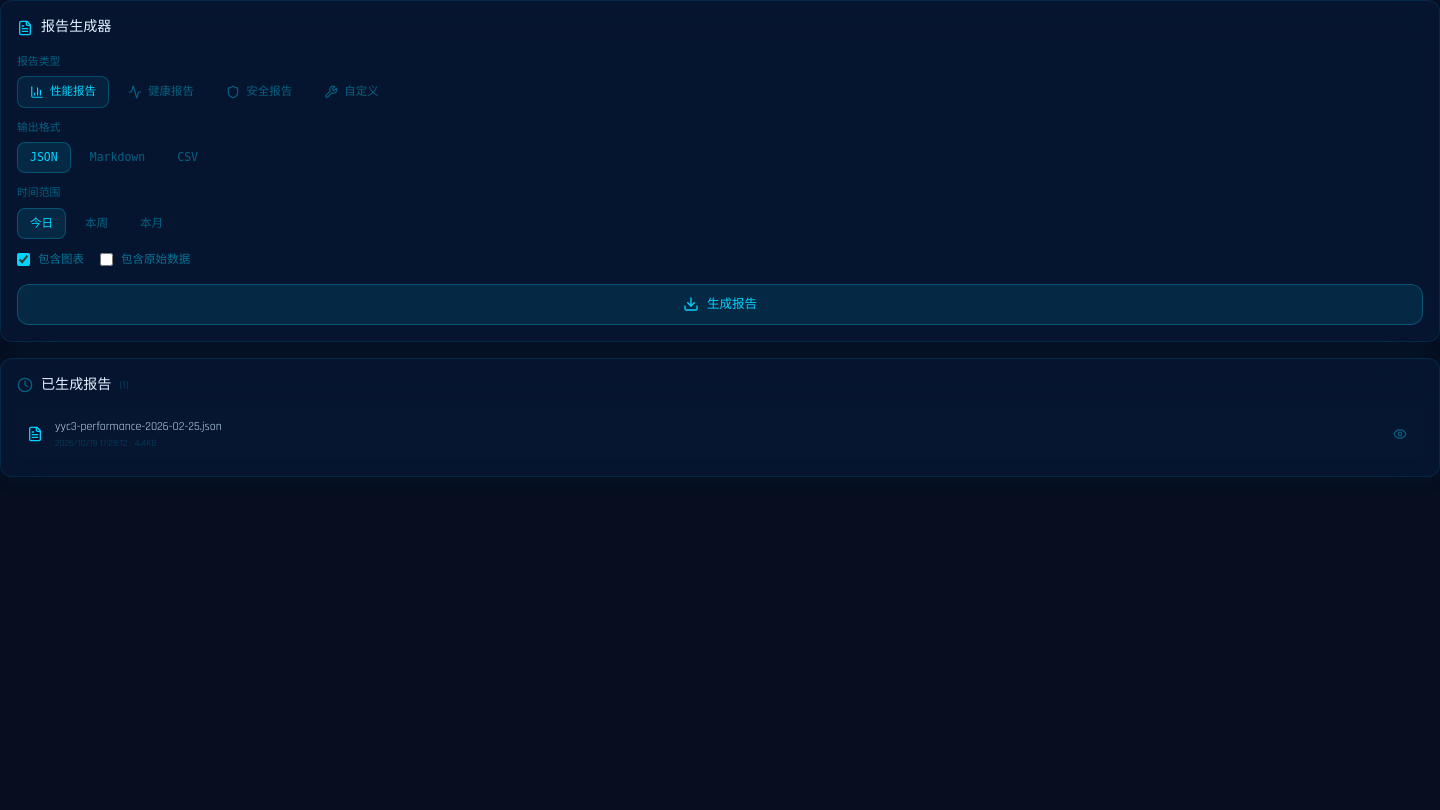
Scenario: ReportGenerator › 已生成报告 › 点击预览按钮应显示预览内容
Step 1. Click the button with test id "preview-rpt-1" → {"x": 1400, "y": 434}, box [1387, 421, 1413, 447]
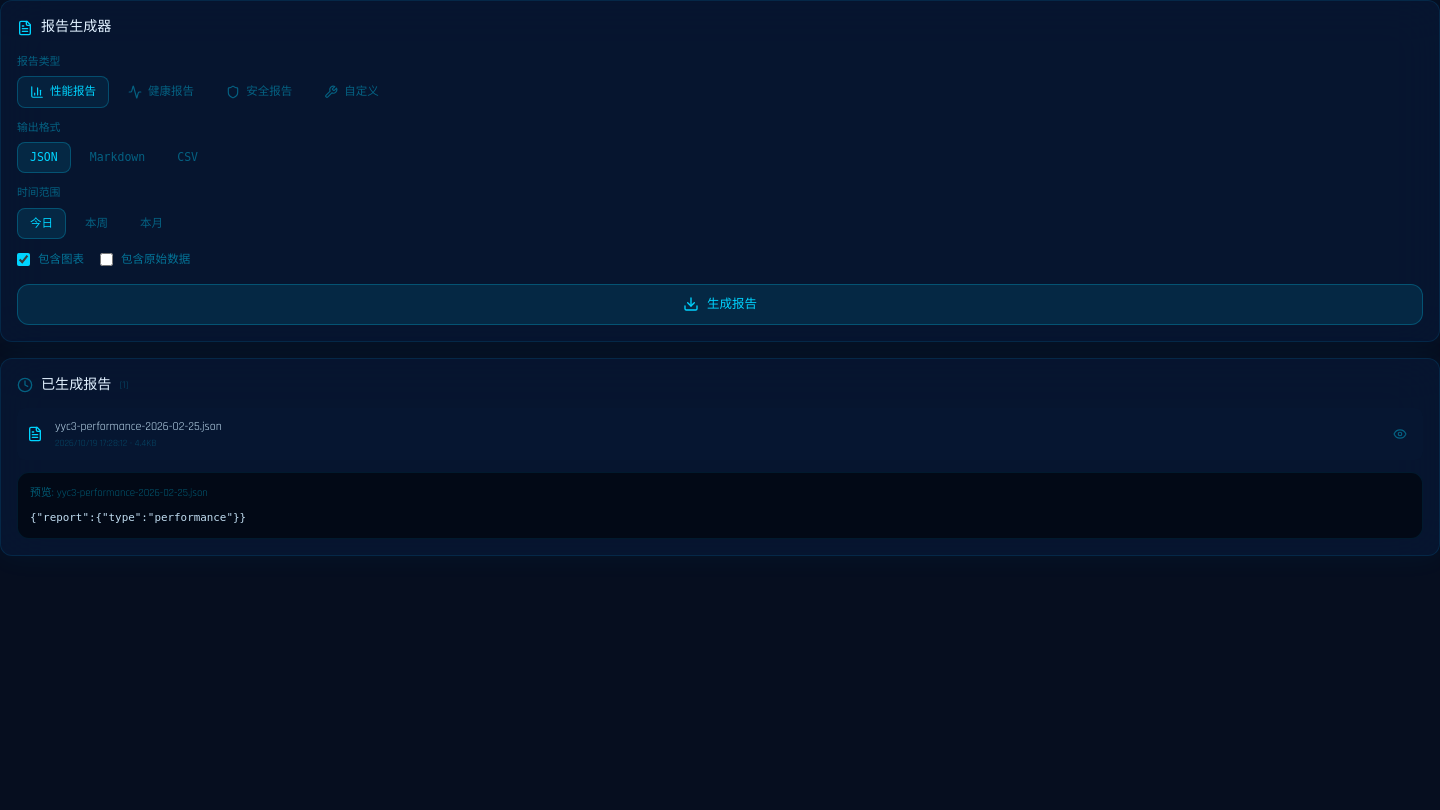
Expected: the text "{\"report\":{\"type\":\"performance\"}}" is shown, [30, 511, 246, 524]
